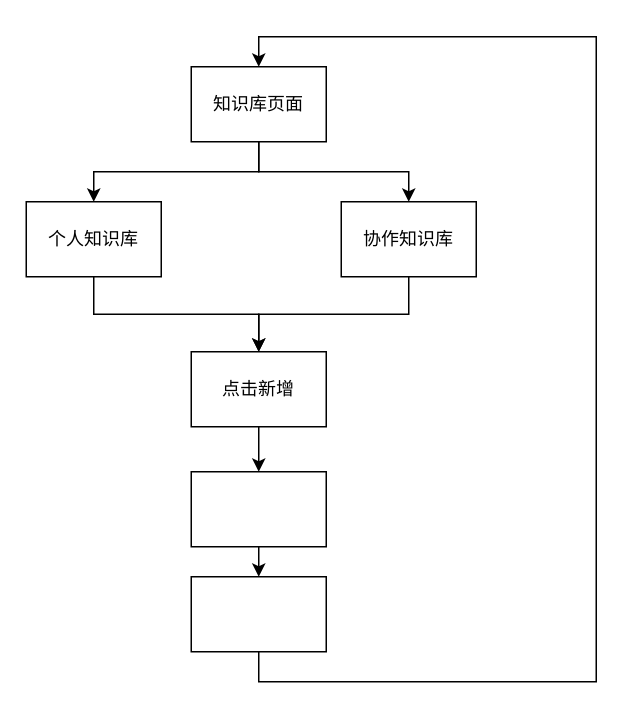
This 635x720 diagram has some shape labels left out. The shapes that lost their labels are listed below. From the top down, each one's box as (x1, y1, x2, y2) in pixels, then its label:
(190, 470, 326, 547): 设置知识库信息与权限
(190, 575, 326, 652): 点击确认
